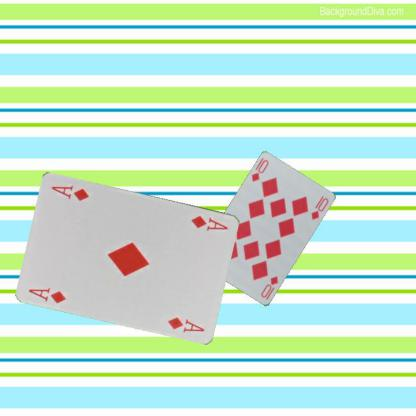10d: (258, 273, 280, 301), (248, 157, 270, 183)
Ad: (26, 285, 68, 304), (189, 213, 229, 232)
